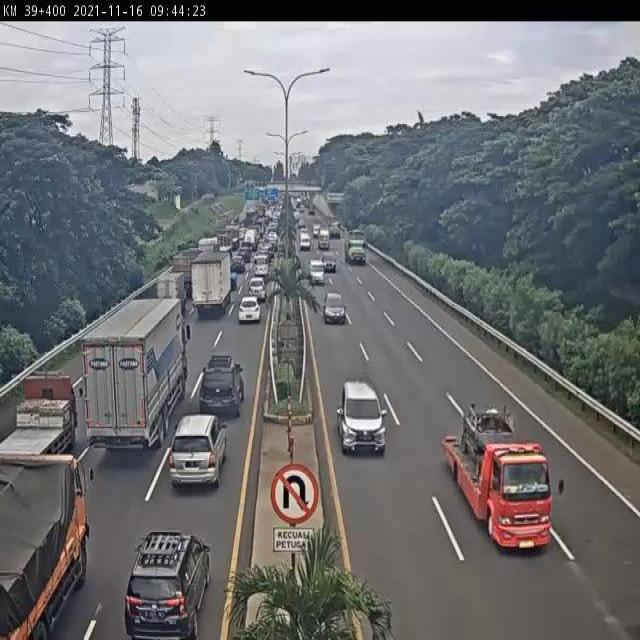car: (125, 532, 211, 640), (170, 414, 230, 490), (337, 381, 388, 456), (201, 355, 246, 417), (323, 292, 347, 325), (238, 298, 262, 322), (308, 259, 325, 285)
small truck: (442, 399, 566, 552), (159, 272, 190, 316)
truck-l-: (82, 298, 191, 454)
truck-m-: (0, 373, 82, 479), (192, 251, 232, 317)
